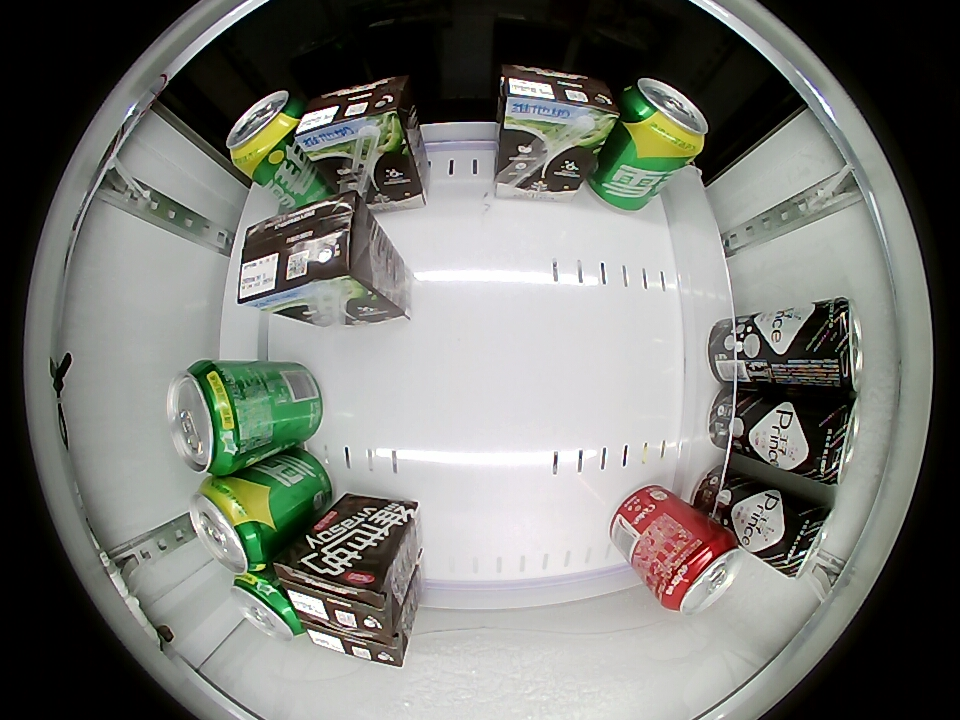kele: (656, 531, 741, 615)
qingdaowangzi-1: (803, 298, 863, 393), (800, 395, 861, 485), (774, 502, 834, 578)
weitanai2: (234, 189, 359, 314), (276, 542, 401, 637), (296, 77, 411, 159), (496, 66, 618, 141), (302, 620, 410, 667)
xuebi2: (168, 359, 251, 476), (189, 476, 278, 574), (619, 77, 709, 161), (226, 90, 304, 170), (231, 571, 304, 641)
